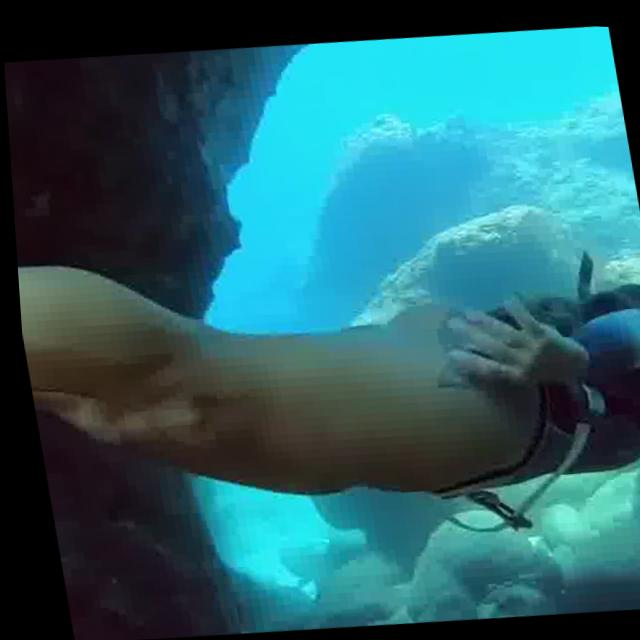human: (8, 154, 640, 561)
